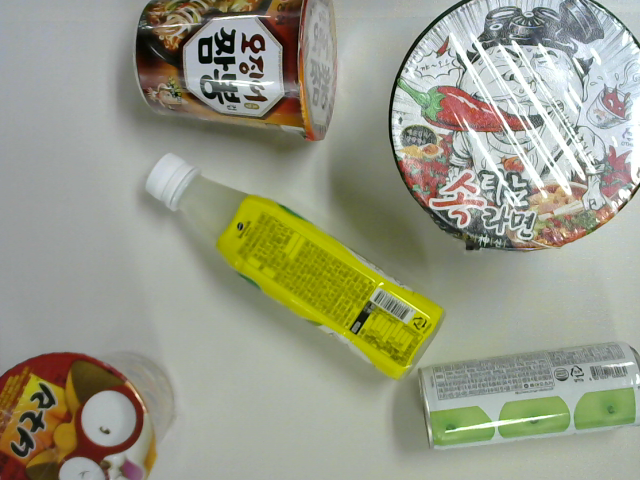Demisoda_Apple_Can_250ml: (418, 340, 640, 452)
HeJangsock: (389, 1, 640, 252)
Ojjam: (133, 1, 338, 141)
Raccoon: (1, 352, 177, 480)
Sunkist_Lemonaid_Pet: (145, 154, 445, 383)
